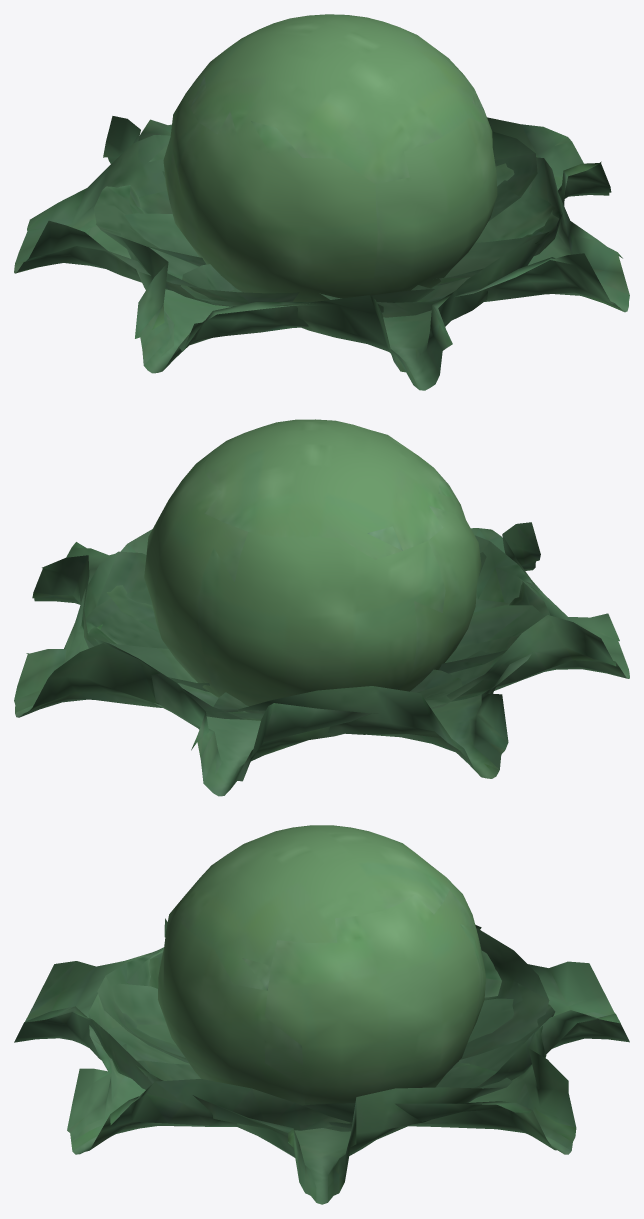
Rendered from crop_artichoke.glb.
3 views of the same model, one above another, from view 1: azimuth 30°, elevation 25°; view 2: azimuth 150°, elevation 25°; view 3: azimuth 270°, elevation 25° (orthographic).
Visible parts, largest first — view 1: fruit, crop_artichoke; view 2: fruit, crop_artichoke; view 3: fruit, crop_artichoke.
Part boxes in pixels (box(x1,y1,x2,y2)): fruit: box(163, 14, 497, 301); crop_artichoke: box(14, 116, 629, 390); fruit: box(144, 419, 481, 706); crop_artichoke: box(14, 522, 629, 796); fruit: box(158, 825, 485, 1105); crop_artichoke: box(14, 918, 629, 1204).
Bounding box in the file's own units: 0.2748 × 0.135 × 0.2809.
Materials: 1 (1 with a texture image).
